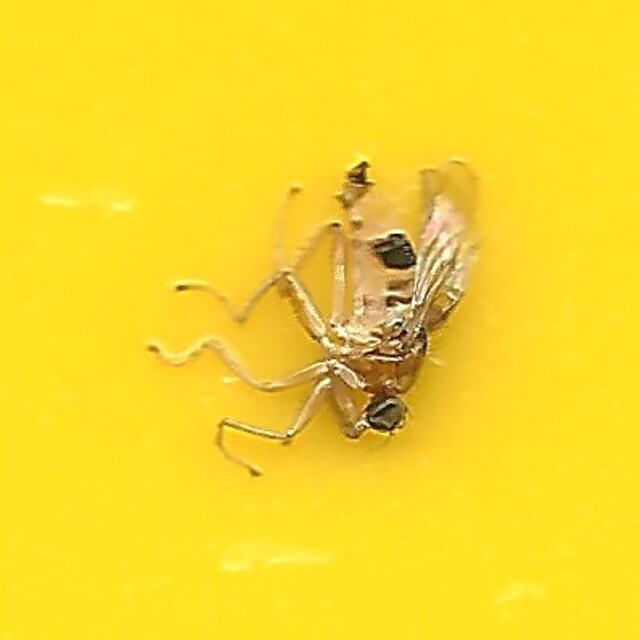Brachycera: (161, 157, 479, 483)
